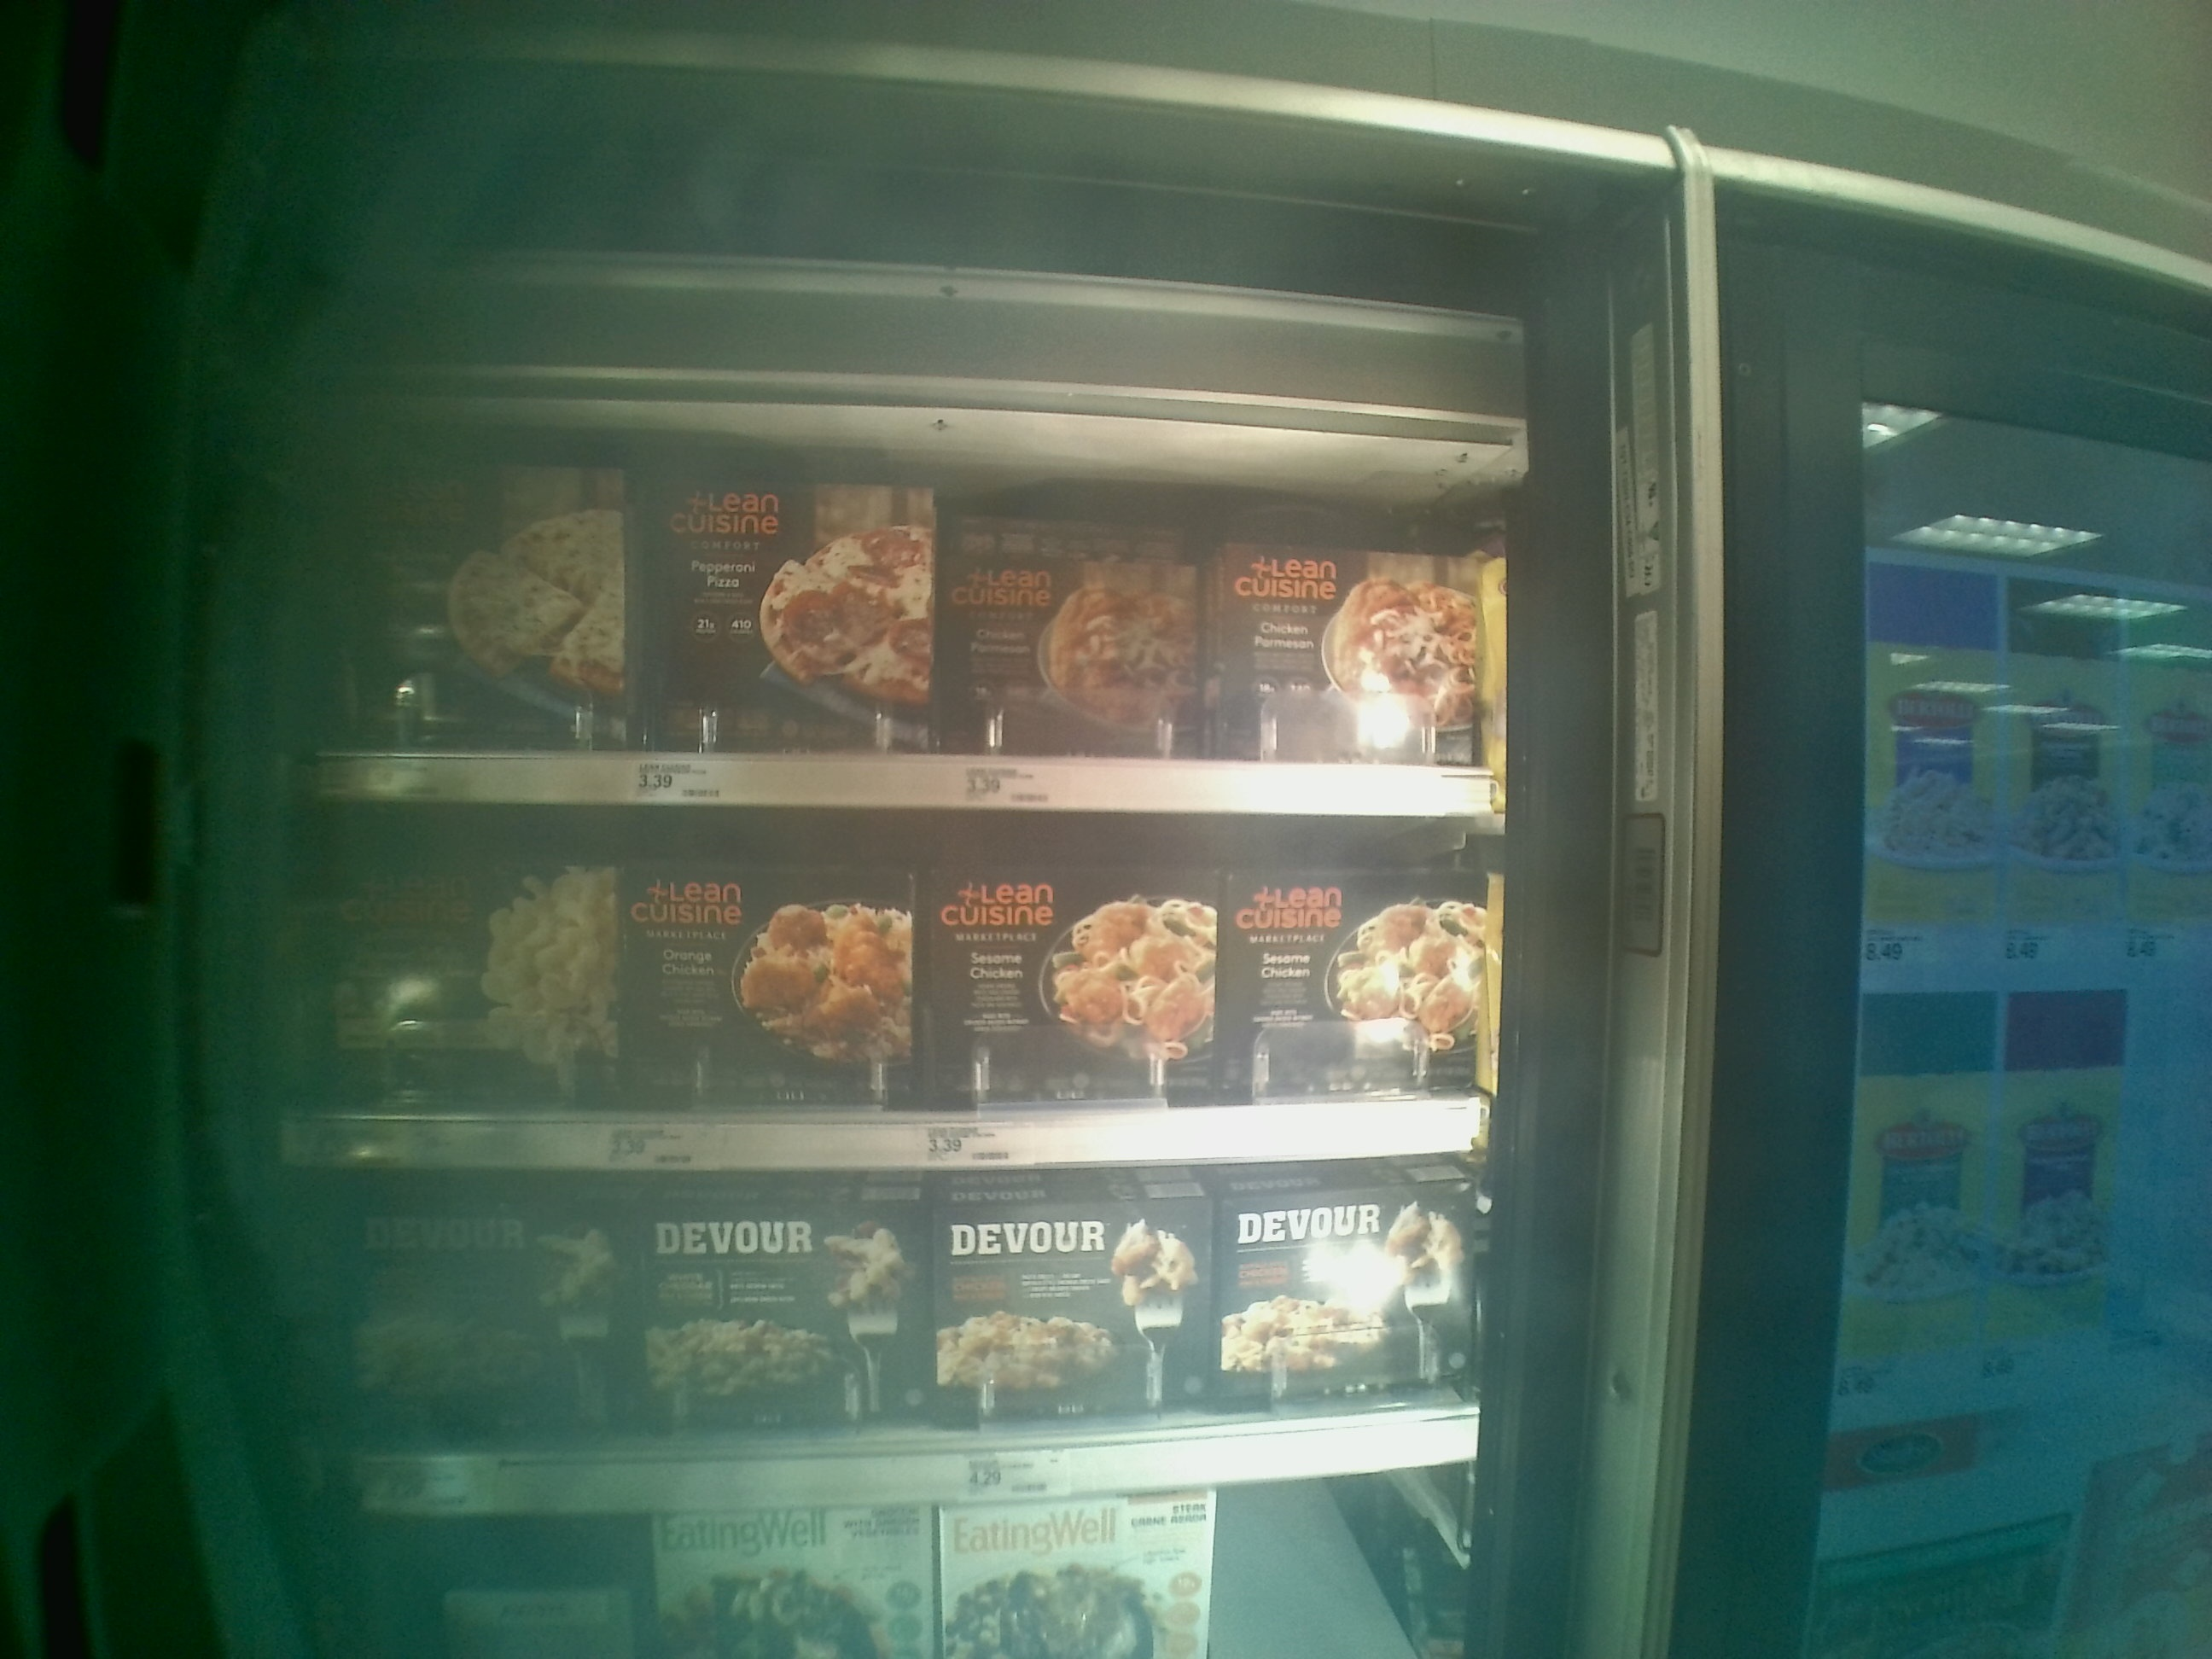pizza: (312, 462, 627, 772), (648, 457, 928, 746), (622, 1211, 932, 1455), (312, 864, 613, 1103), (625, 857, 909, 1100), (1204, 538, 1496, 762), (934, 511, 1197, 749), (927, 868, 1211, 1086), (1211, 1199, 1480, 1422), (935, 1202, 1204, 1417), (350, 1215, 606, 1431), (1224, 871, 1484, 1080)
